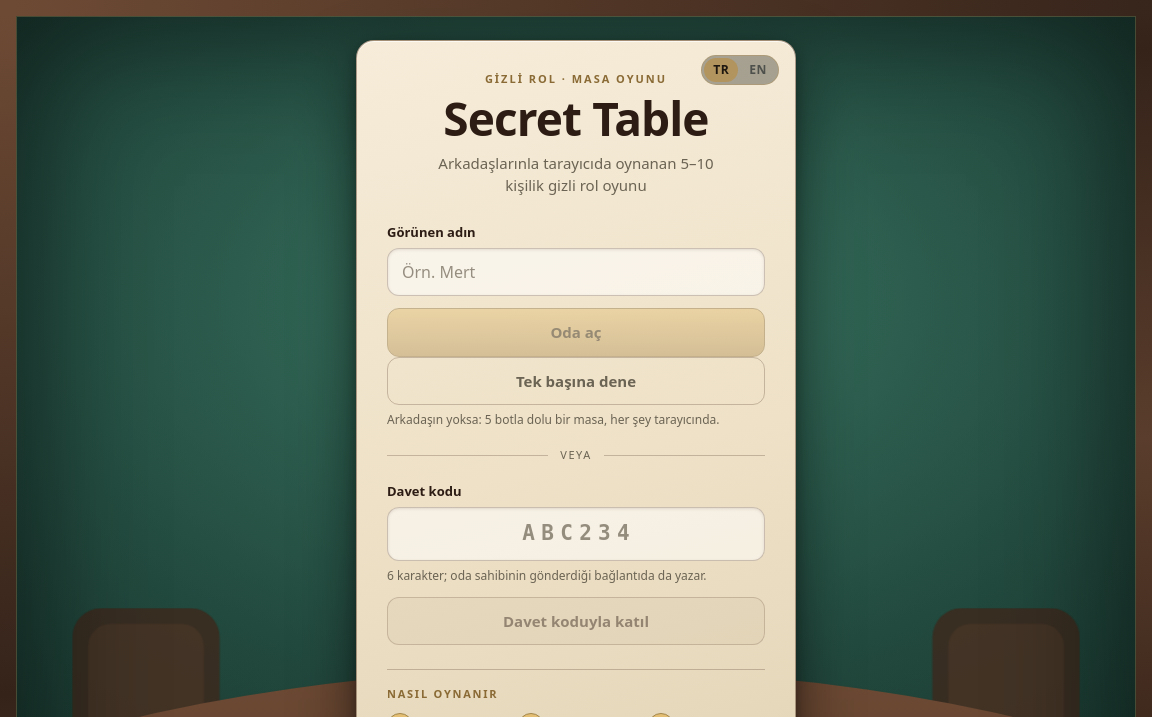
Test: ad boşken "Oda aç" devre dışı, ad yazılınca etkin olur
Expected: the button "Oda aç" is disabled, 387,308 -> 765,357
Type "Mert" into the field labelled "Görünen adın" at {"x": 576, "y": 272}, box 387,248 -> 765,296
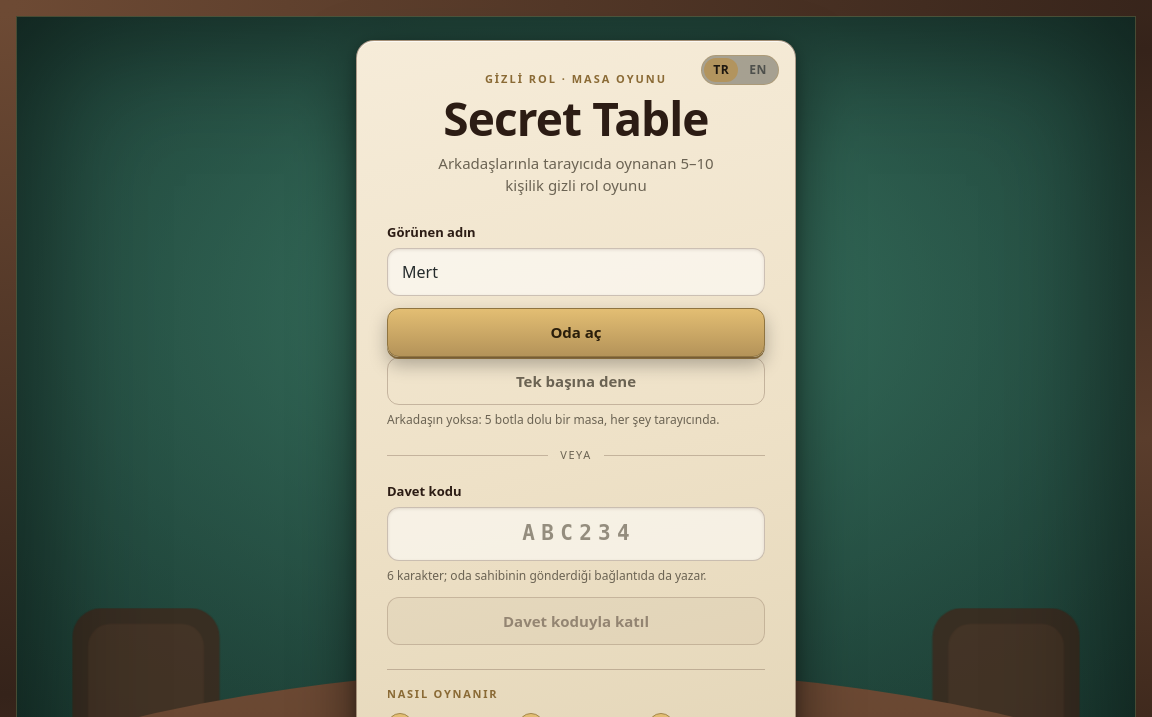
Result: the button "Oda aç" is enabled at 387,308 -> 765,357
